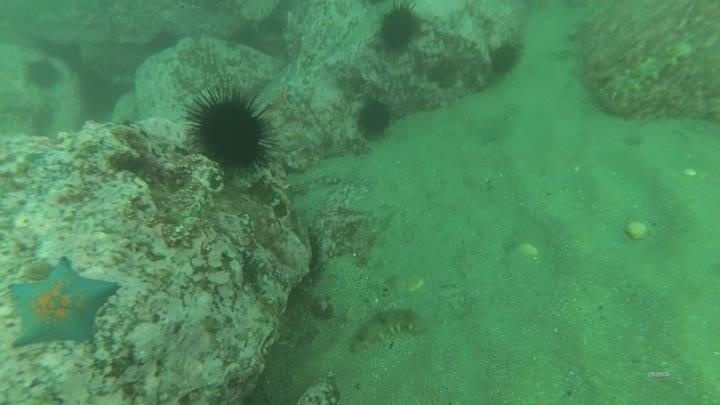echinus: (184, 86, 277, 175), (373, 1, 425, 56), (354, 96, 395, 141), (487, 39, 524, 79), (22, 57, 64, 92)
holothurian: (591, 36, 694, 106), (346, 303, 427, 354)
starfish: (5, 255, 122, 351)
